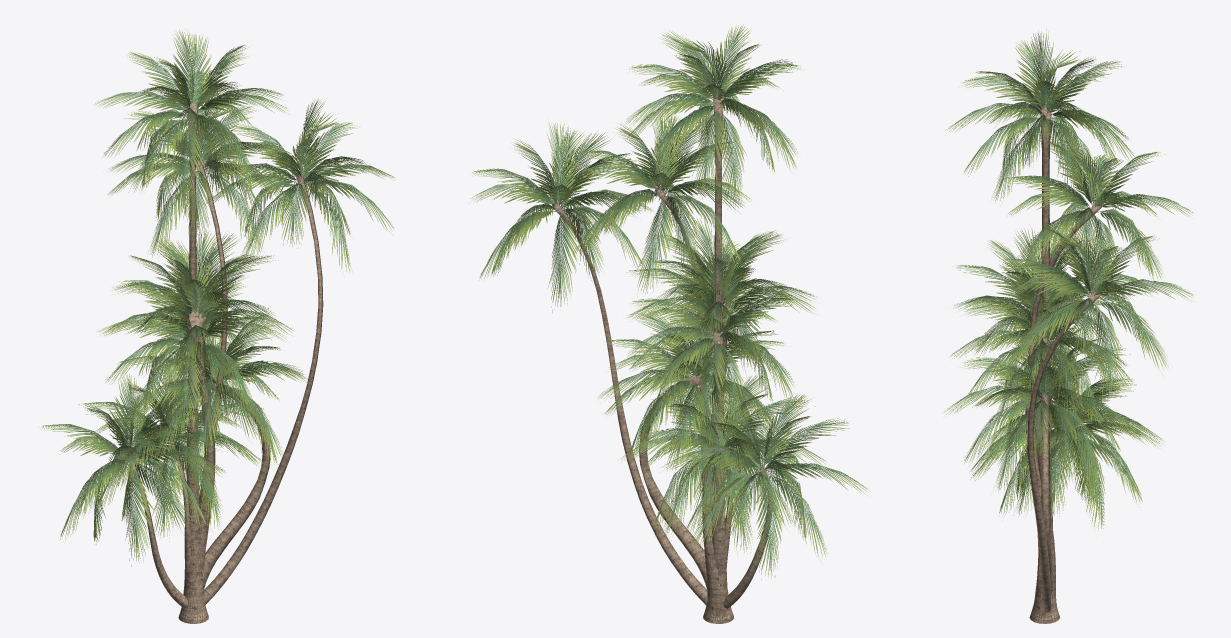
Rendered from palm2.glb.
3 renders of one model, left to right at view 1: azimuth 30°, elevation 25°; view 2: azimuth 150°, elevation 25°; view 3: azimuth 270°, elevation 25°, orthographic. The views are drawn at different scales.
Visible parts, largest first — view 1: coco_d, coco_e, coco_b, coco_f, coco_c, coco_a; view 2: coco_d, coco_e, coco_b, coco_c, coco_f, coco_a; view 3: coco_d, coco_e, coco_b, coco_c, coco_f, coco_a.
Boxes of the visible parts, x1,y1,x2,y2 form: coco_d: [40, 98, 394, 608]; coco_e: [81, 86, 295, 573]; coco_b: [94, 28, 289, 590]; coco_f: [104, 230, 292, 623]; coco_c: [118, 313, 308, 588]; coco_a: [97, 258, 286, 437]; coco_d: [468, 122, 868, 608]; coco_e: [573, 109, 826, 573]; coco_b: [625, 24, 804, 590]; coco_c: [597, 302, 786, 590]; coco_f: [626, 215, 816, 623]; coco_a: [627, 264, 803, 437]; coco_d: [970, 222, 1193, 612]; coco_e: [971, 136, 1193, 530]; coco_b: [945, 29, 1136, 558]; coco_c: [943, 325, 1143, 595]; coco_f: [953, 224, 1128, 623]; coco_a: [951, 273, 1133, 430].
Size of the model in its own units: 10.67 by 15 by 6.99.
12 materials, 12 textured.
